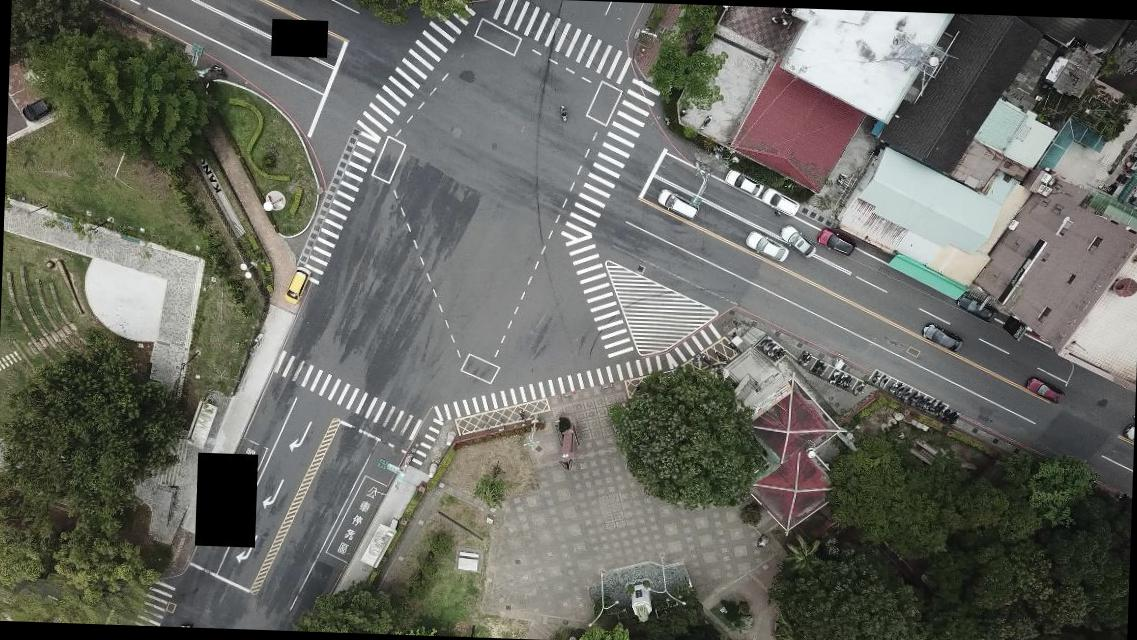vehicle: (654, 186, 699, 221), (743, 228, 789, 262), (779, 224, 818, 258), (920, 322, 963, 352), (760, 187, 801, 217), (955, 294, 998, 322), (816, 227, 856, 257), (724, 168, 764, 198), (282, 265, 312, 305), (1024, 375, 1066, 403), (20, 96, 56, 122)
